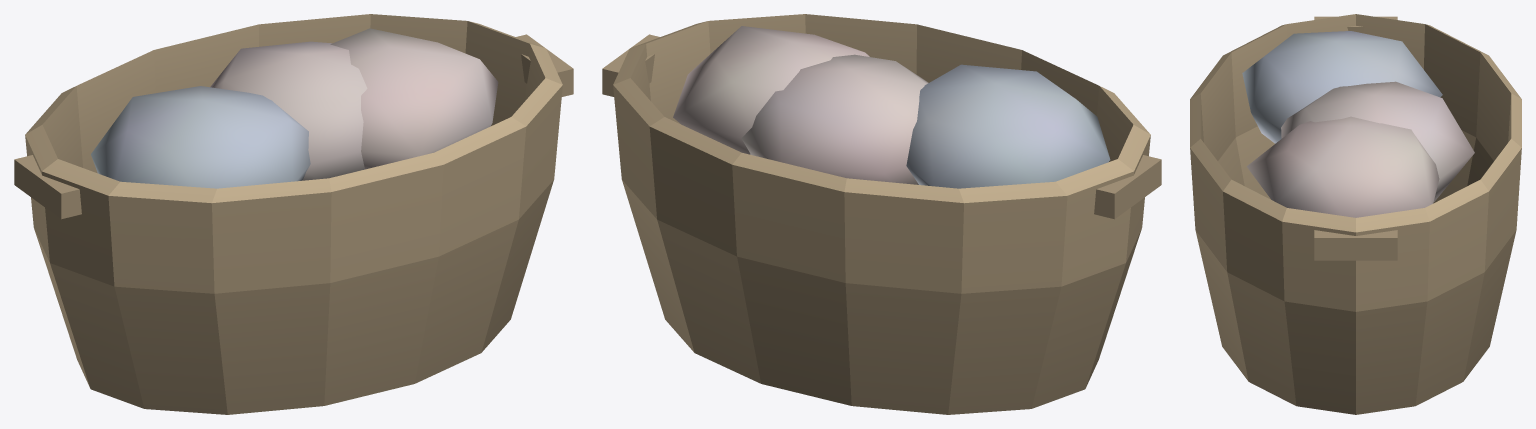
Rendered from SM_BM_BP_LaundryBasket.glb.
3 renders of one model, left to right at view 1: azimuth 30°, elevation 25°; view 2: azimuth 150°, elevation 25°; view 3: azimuth 270°, elevation 25°, orthographic. The views are drawn at different scales.
Visible parts, largest first — view 1: SM_BM_BP_LaundryBasket; view 2: SM_BM_BP_LaundryBasket; view 3: SM_BM_BP_LaundryBasket.
Part boxes in pixels (x1,y1,x2,y2): SM_BM_BP_LaundryBasket: [14, 14, 573, 414]; SM_BM_BP_LaundryBasket: [602, 14, 1161, 414]; SM_BM_BP_LaundryBasket: [1190, 14, 1521, 414].
Size of the model in its own units: 0.63 by 0.32 by 0.3989.
